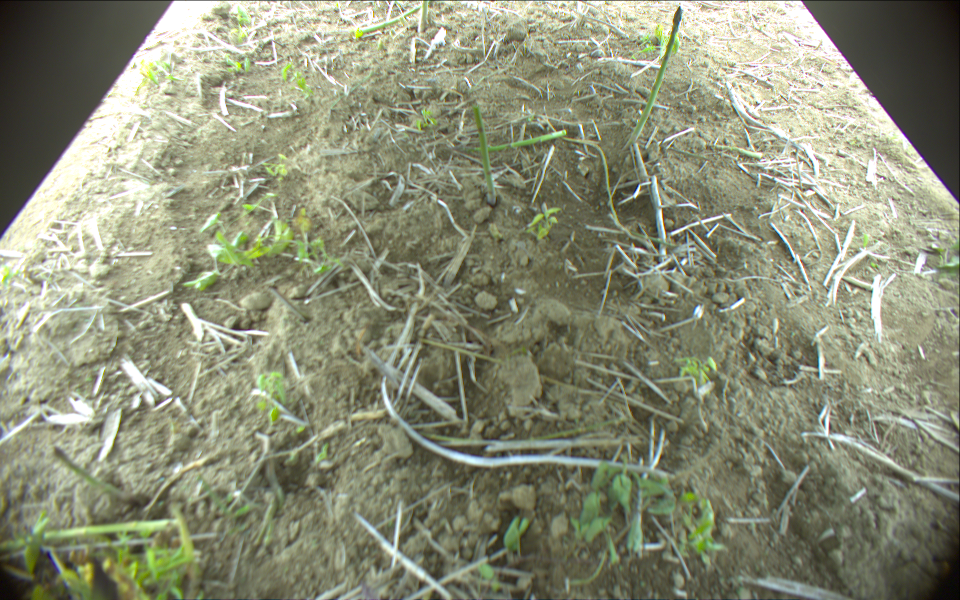aspa: (620, 5, 684, 154), (50, 446, 139, 503), (1, 519, 177, 547), (470, 96, 497, 203), (340, 4, 424, 34), (468, 129, 567, 152), (418, 1, 428, 34)
